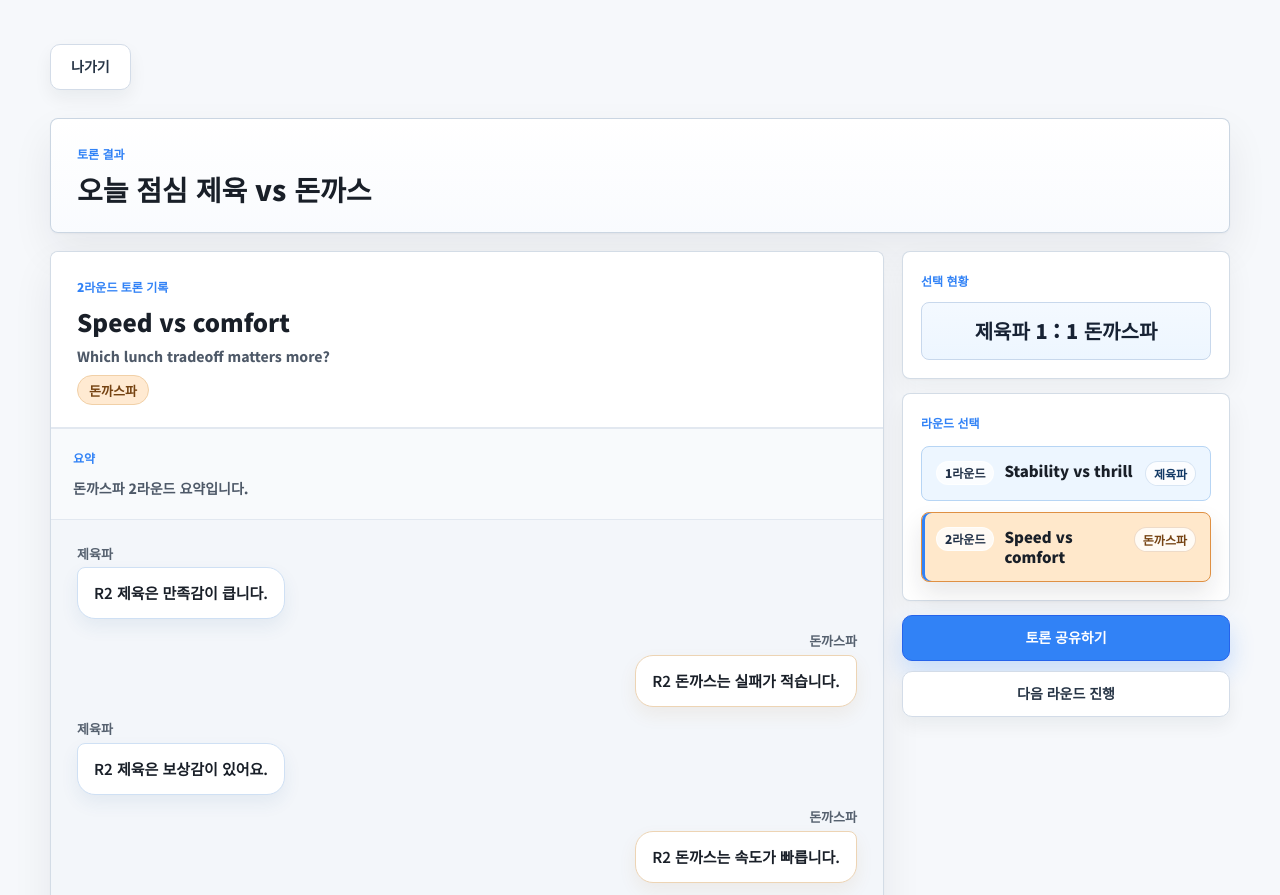
Test: DebateResultView › uses per-round detail titles when the result contains multiple detailed topics
The width and height of the screenshot is (1280, 895).
Expected: the text with class "result-choice-score" reads "제육파 1 : 1 돈까스파", [975, 316, 1157, 345]
Expected: the button with class "result-round-card" shows "2라운드", [921, 512, 1211, 582]
Click the button with class "result-round-card" showing "1라운드 Stability vs thrill 제육파": (1066, 473) [921, 446, 1211, 501]
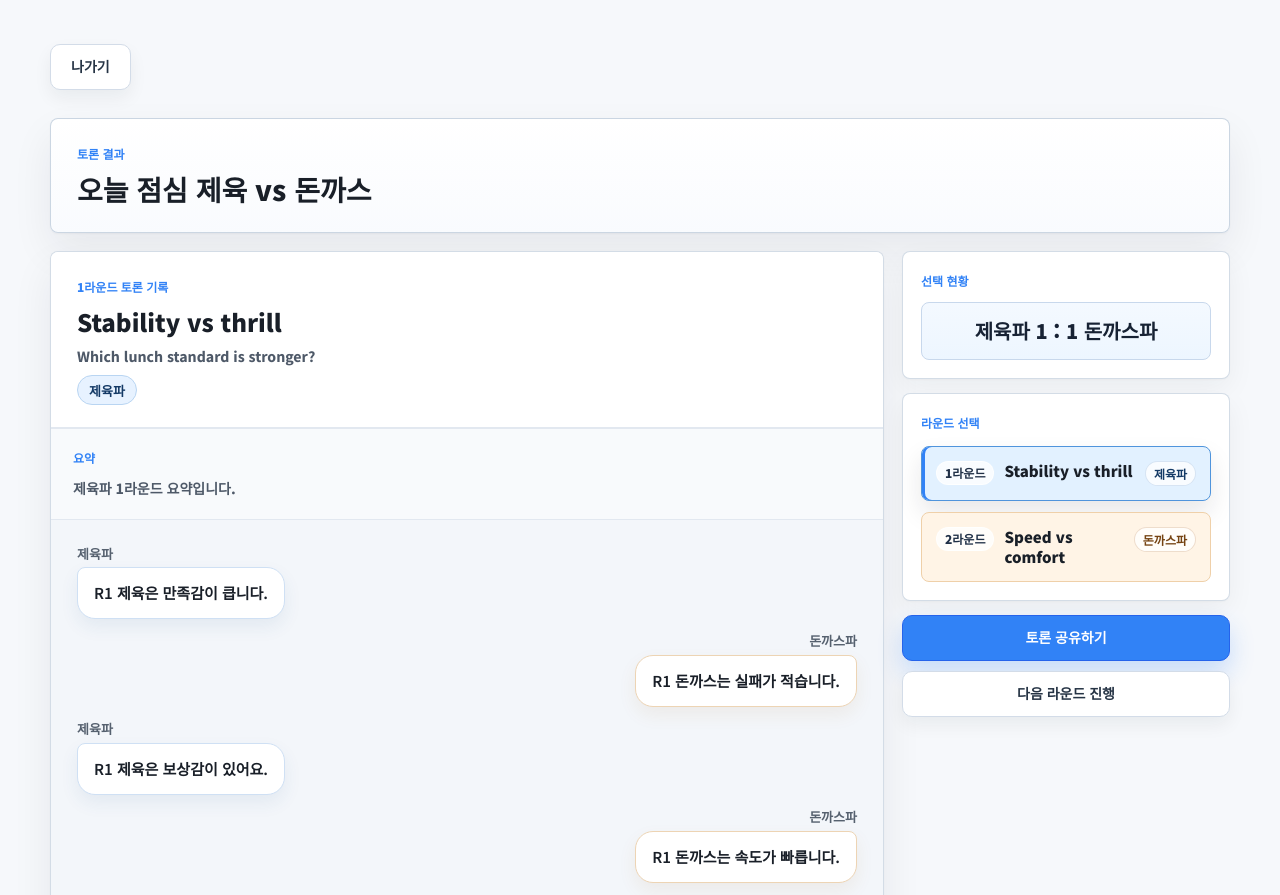
Expected: the heading "Stability vs thrill" is shown, [77, 306, 315, 337]
Expected: the text with class "result-selected-side-pill" reads "제육파", [89, 381, 125, 400]
Expected: the element with class "result-summary-note" shows "제육파 1라운드 요약입니다.", [73, 478, 236, 498]
